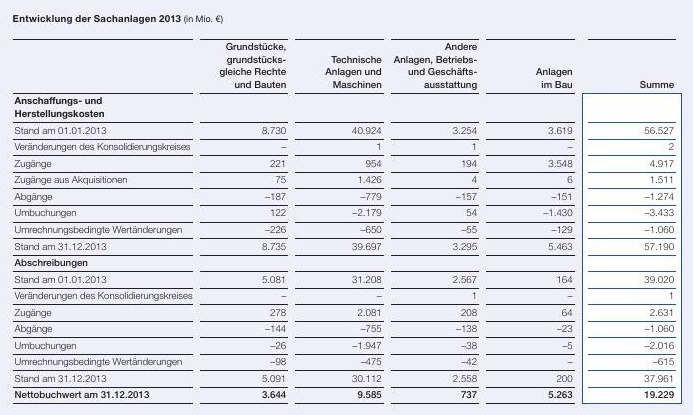table: (0, 0, 693, 415)
